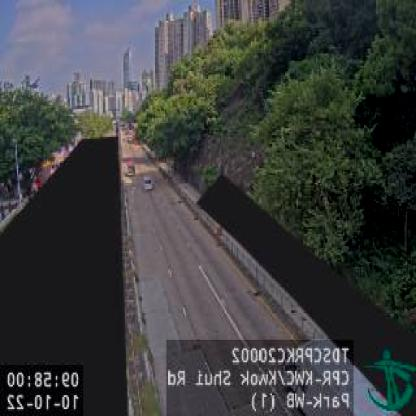Car: (142, 174, 154, 191)
